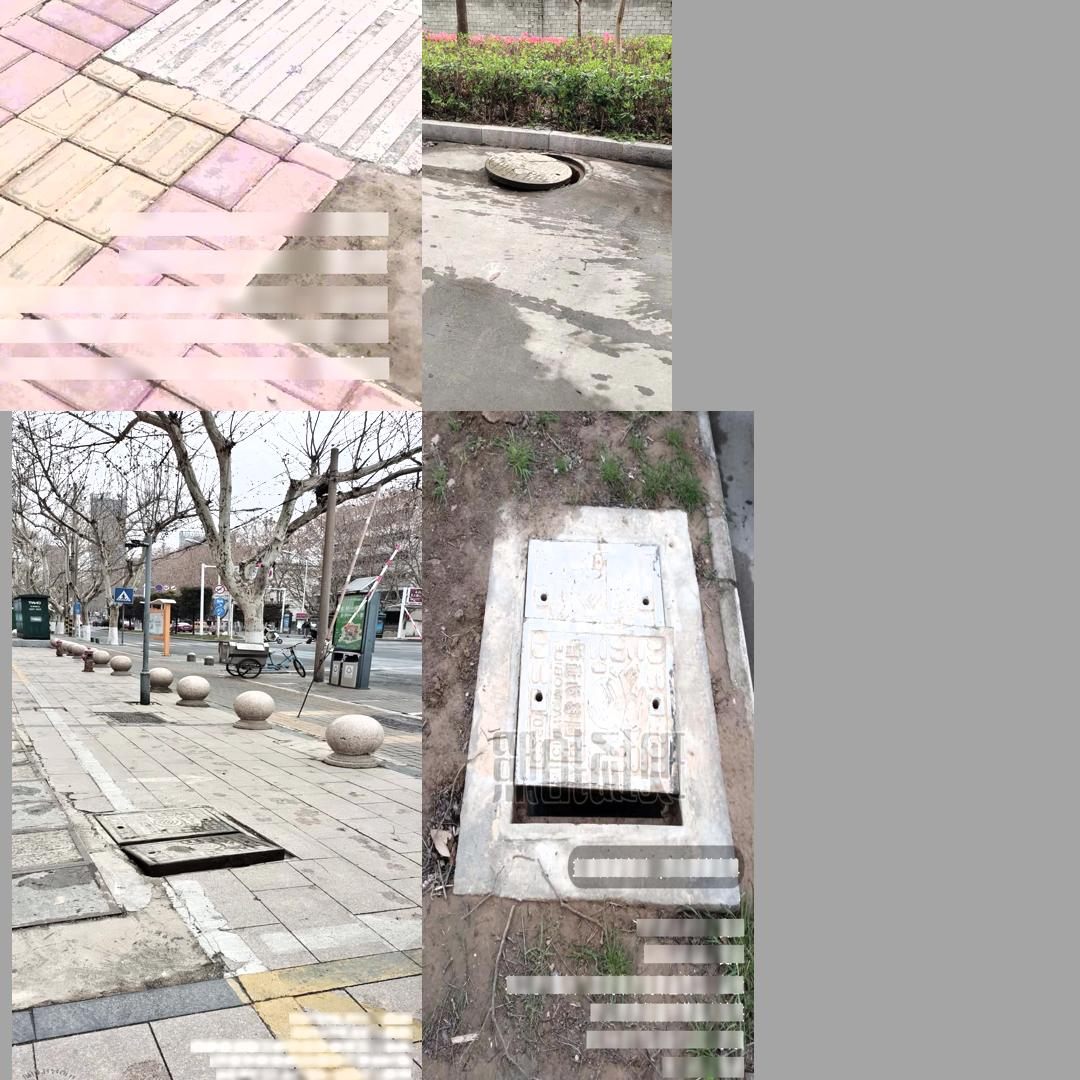uncovered: (499, 535, 683, 841), (114, 777, 296, 885), (483, 149, 593, 194)
